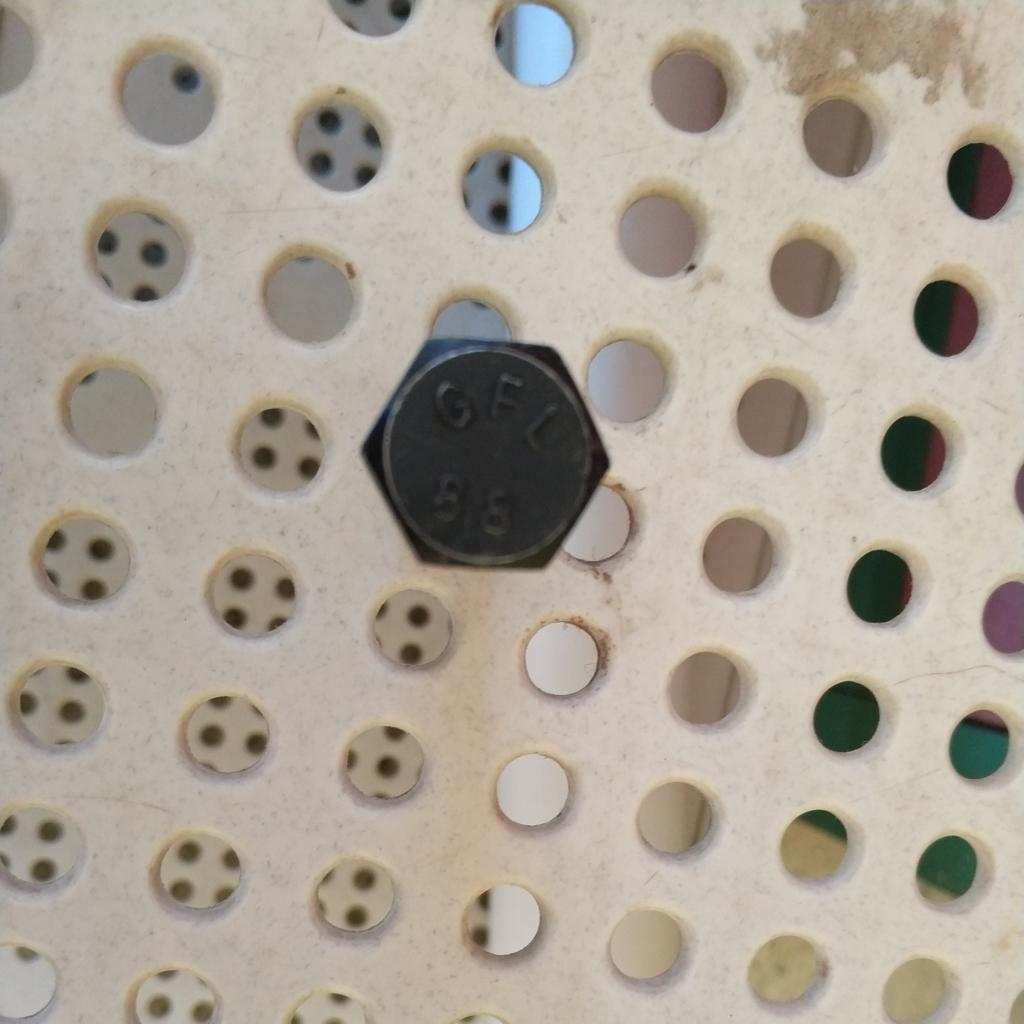screwtype2black: (334, 332, 624, 575)
